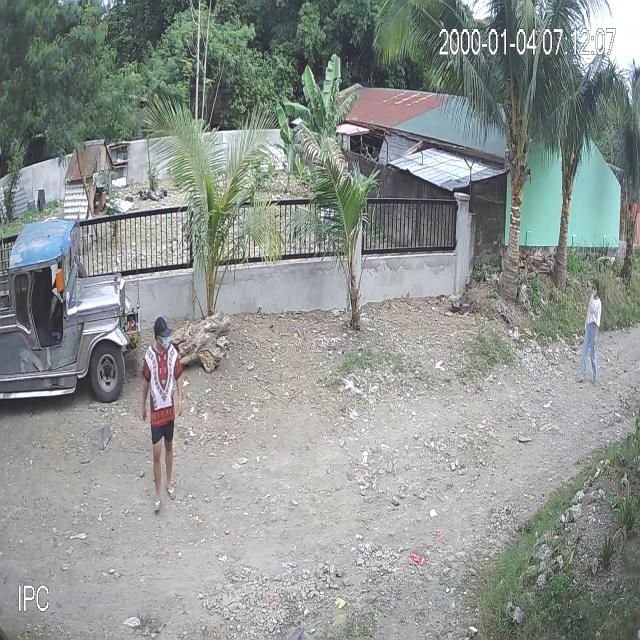walking: (140, 313, 185, 517), (574, 276, 606, 389)
